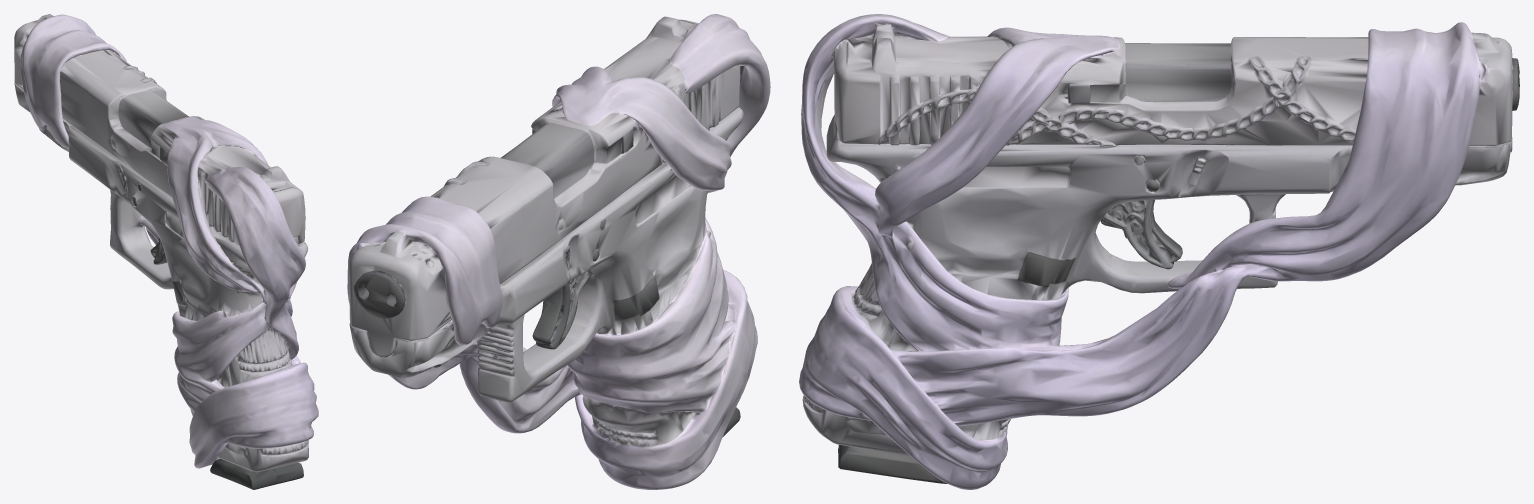
File: hizli_ipek.glb
3 renders of one model, left to right at view 1: azimuth 30°, elevation 25°; view 2: azimuth 150°, elevation 25°; view 3: azimuth 270°, elevation 25°, orthographic. The views are drawn at different scales.
Parts seen in each view (by area): view 1: govde; view 2: govde; view 3: govde.
Boxes of the visible parts, box(x1,y1,x2,y2) form: govde: box(14, 14, 318, 489); govde: box(347, 14, 770, 489); govde: box(799, 14, 1519, 489).
Size of the model in its own units: 0.0482 by 0.1386 by 0.2014.
1 material, 1 textured.
